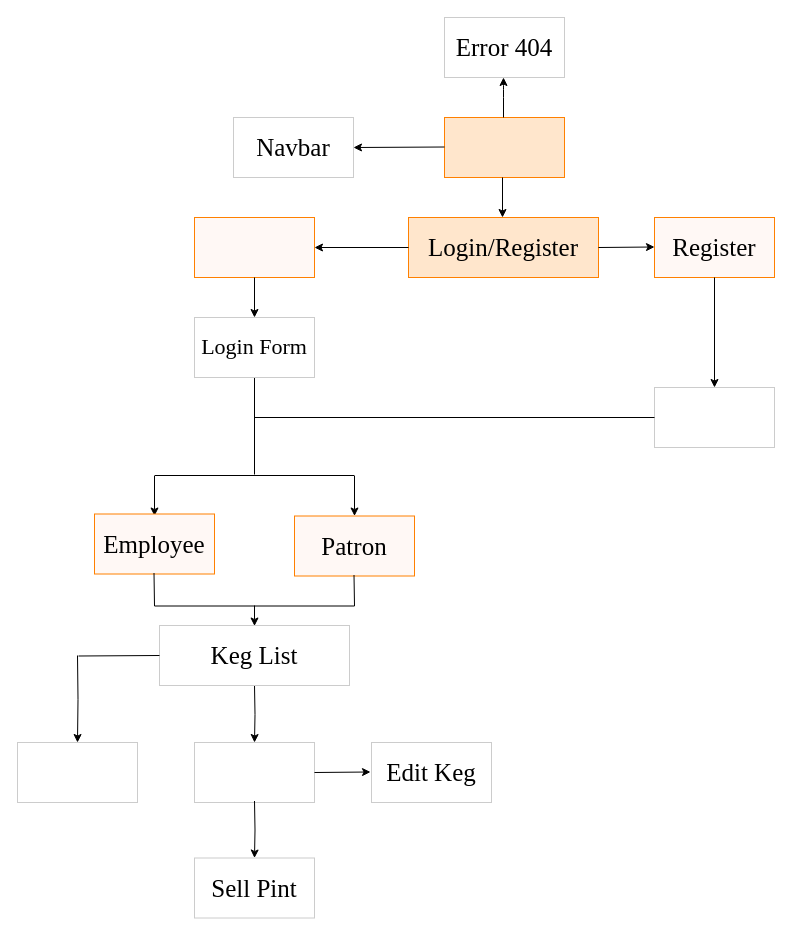
This 792x936 diagram has some shape labels left out. Here are the shapes that lost their labels. From the top down, the box of each, then its label:
(444, 116, 564, 178): App
(194, 216, 314, 278): Login
(654, 386, 774, 448): Registration Form
(16, 742, 138, 802): New Keg
(194, 742, 314, 802): Keg
